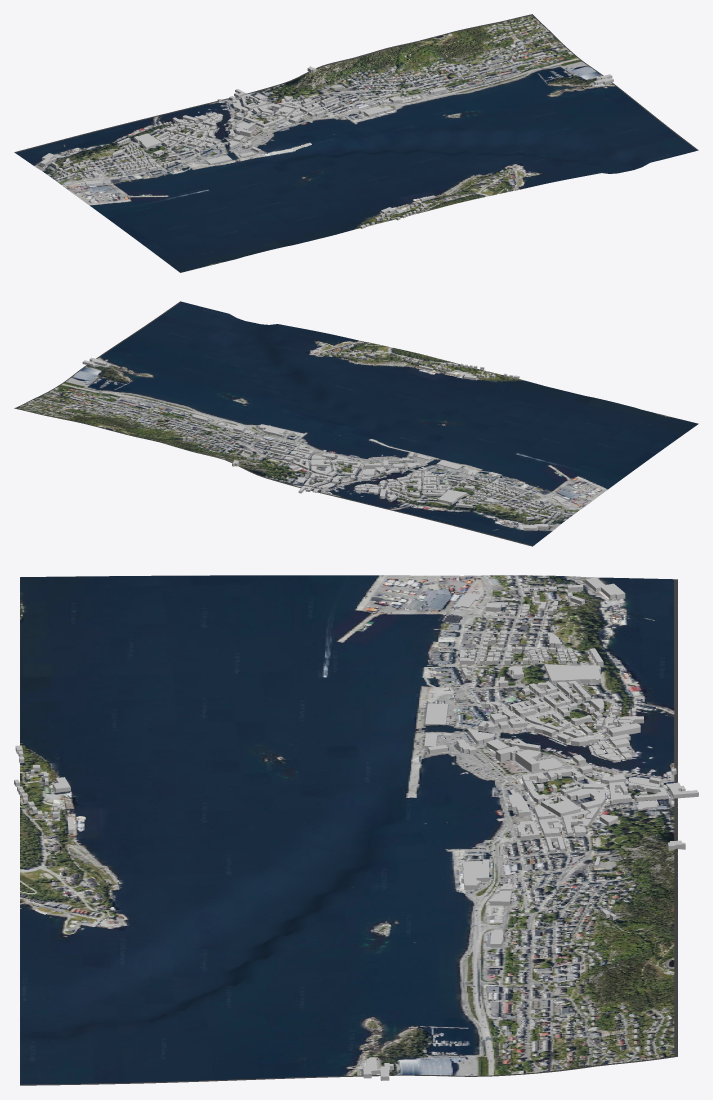
File: aalesund.obj
The picture shows the model from 3 angles, top to bottom: view 1: azimuth 30°, elevation 25°; view 2: azimuth 150°, elevation 25°; view 3: azimuth 270°, elevation 25°; orthographic projection. The views are drawn at different scales.
Visible parts, largest first — view 1: EXPORT_GOOGLE_SAT_WM_EXPORT_GOOGLE_SAT_WM_rastMat, Areas:building_Areas:building_None; view 2: EXPORT_GOOGLE_SAT_WM_EXPORT_GOOGLE_SAT_WM_rastMat, Areas:building_Areas:building_None; view 3: EXPORT_GOOGLE_SAT_WM_EXPORT_GOOGLE_SAT_WM_rastMat, Areas:building_Areas:building_None.
Boxes of the visible parts, bbox=[...] form: EXPORT_GOOGLE_SAT_WM_EXPORT_GOOGLE_SAT_WM_rastMat: bbox=[14, 14, 698, 272]; Areas:building_Areas:building_None: bbox=[40, 66, 613, 228]; EXPORT_GOOGLE_SAT_WM_EXPORT_GOOGLE_SAT_WM_rastMat: bbox=[14, 301, 698, 546]; Areas:building_Areas:building_None: bbox=[82, 357, 566, 530]; EXPORT_GOOGLE_SAT_WM_EXPORT_GOOGLE_SAT_WM_rastMat: bbox=[20, 575, 677, 1085]; Areas:building_Areas:building_None: bbox=[14, 577, 698, 1080].
Bounding box in the file's own units: 5551 × 208 × 3183.
2 materials, 1 textured.
